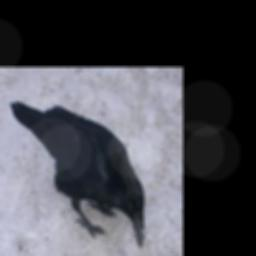Crow: (8, 100, 144, 247)
